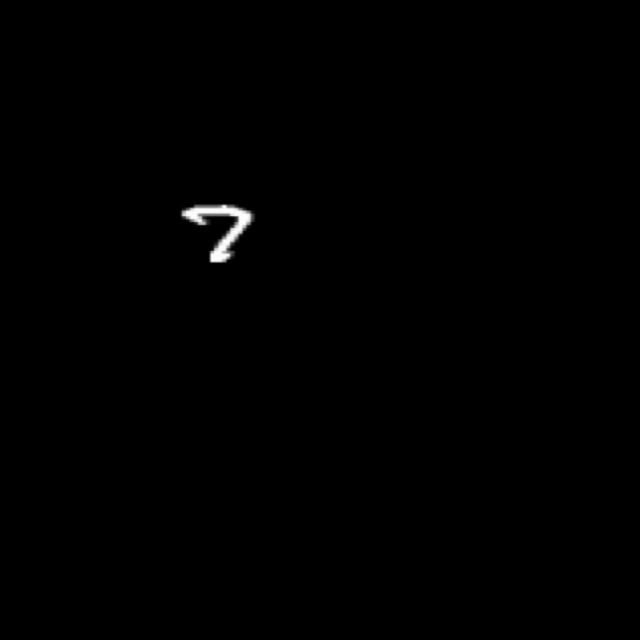seven -7-: (174, 201, 255, 266)
